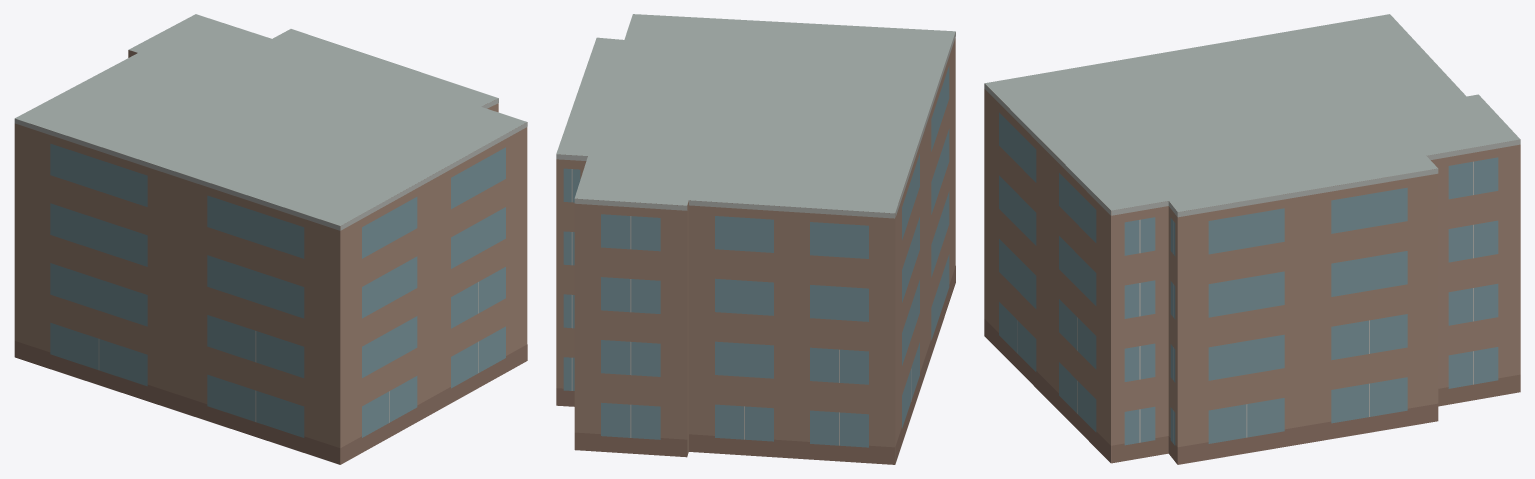
Rendered from survey-upis-32494412.glb.
The picture shows the model from 3 angles, left to right: view 1: azimuth 30°, elevation 25°; view 2: azimuth 150°, elevation 25°; view 3: azimuth 270°, elevation 25°; orthographic projection. The views are drawn at different scales.
Visible parts, largest first — view 1: survey-upis-32494412.tmp; view 2: survey-upis-32494412.tmp; view 3: survey-upis-32494412.tmp.
Boxes of the visible parts, x1,y1,x2,y2 form: survey-upis-32494412.tmp: (14, 14, 527, 464); survey-upis-32494412.tmp: (556, 14, 955, 464); survey-upis-32494412.tmp: (984, 14, 1520, 464).
Bounding box in the file's own units: 20.19 × 12 × 23.08.
